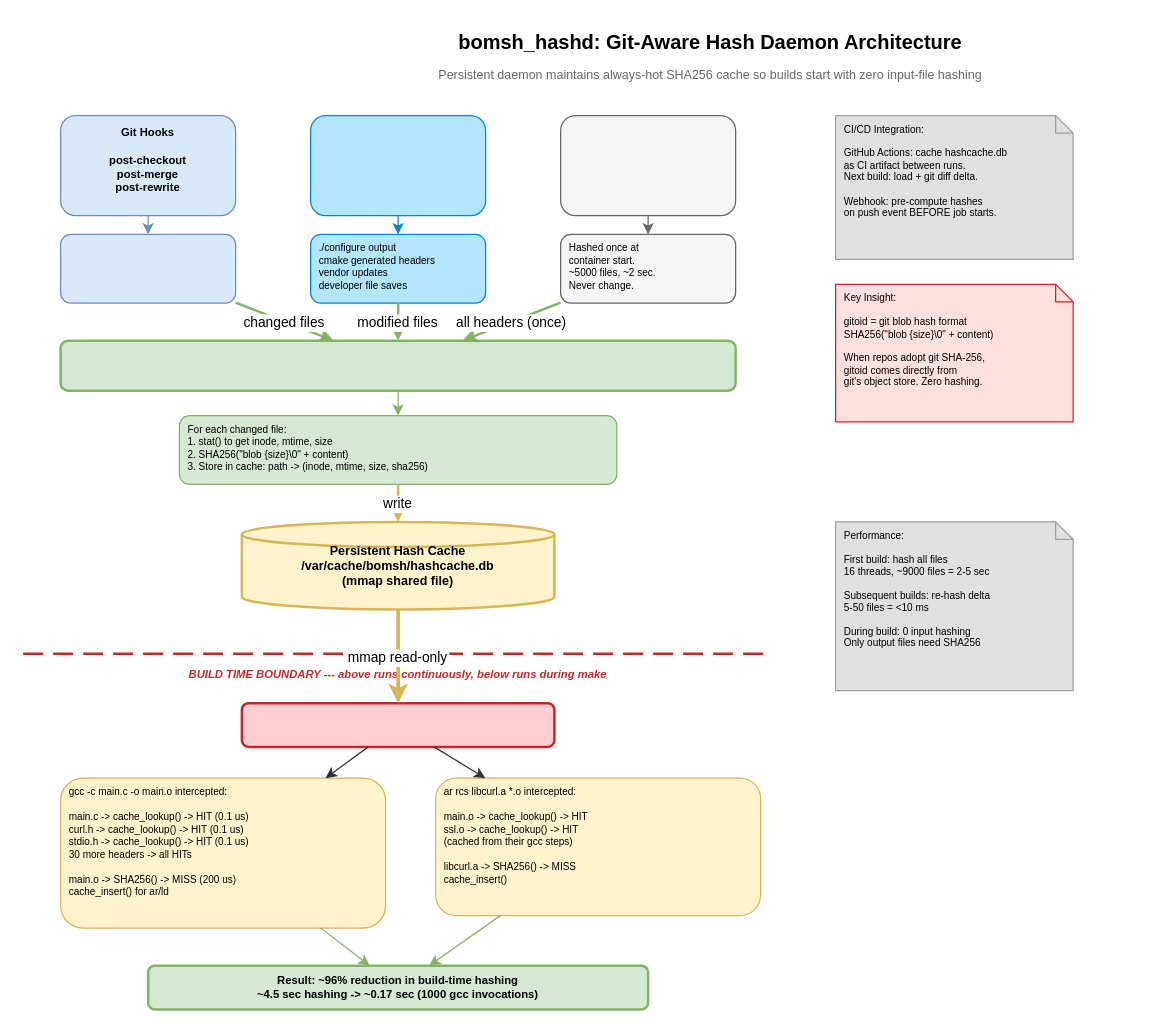
Some shapes in this 1169 by 1031 pixel diagram are drawn without their labels. Each missing label, with the centre of its shape:
"bomsh_hashd daemon (persistent, multi-threaded)" goes at [397,365].
"bomtrace3 make -j$(nproc)" goes at [397,724].
"git diff --name-only HEAD@{1} HEAD Typical: 5-50 files" goes at [147,268].
"inotify Watch IN_MODIFY IN_CREATE" goes at [397,165].
"System Headers /usr/include/* /usr/lib/gcc/*" goes at [647,165].
